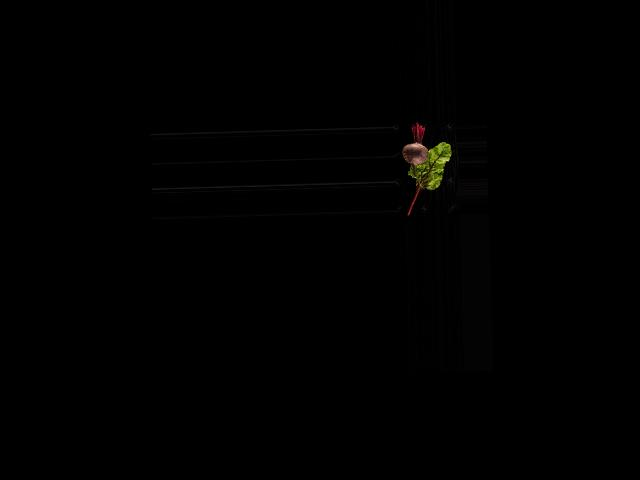beet: (401, 121, 429, 189)
